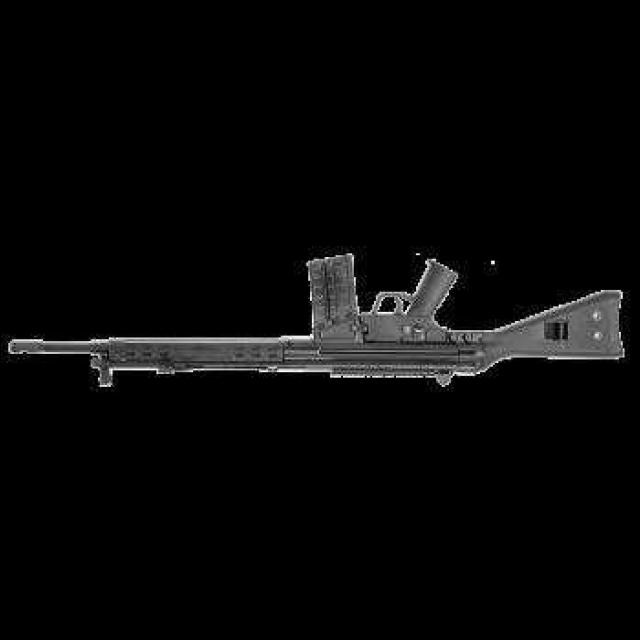heavyweapon: (5, 232, 639, 422)
